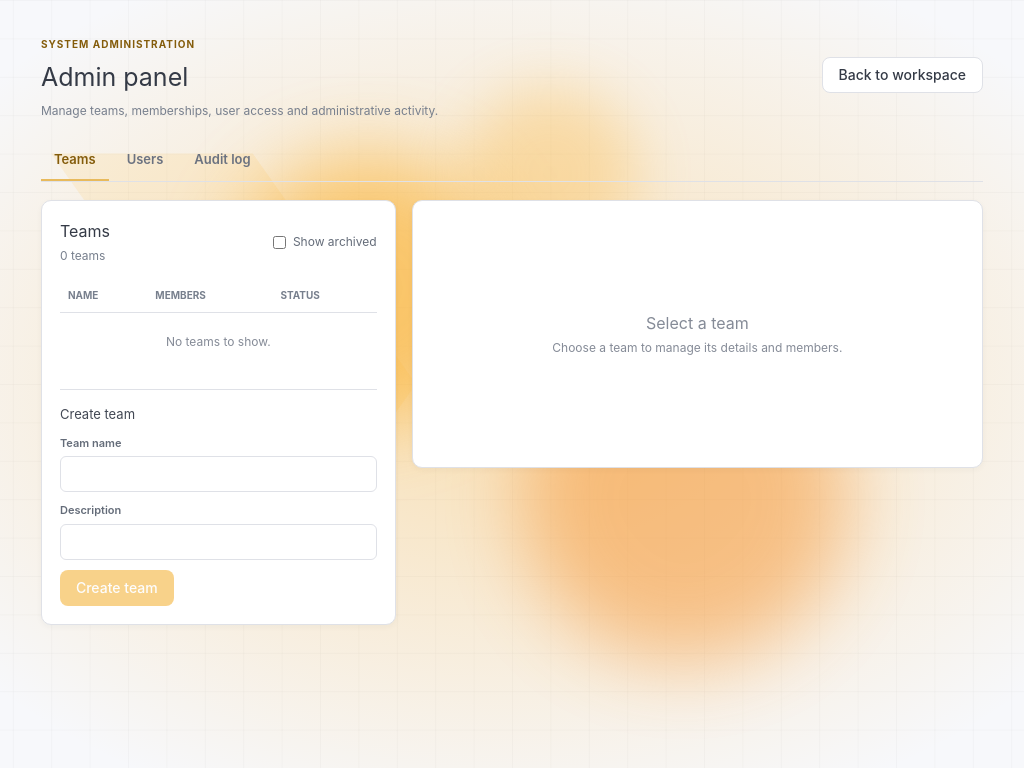
it: AdminPanel › shows a friendly message when deletion fails with LAST_SYSTEM_ADMIN
Click the button "Users" at (145, 160), box [114,140,176,181]
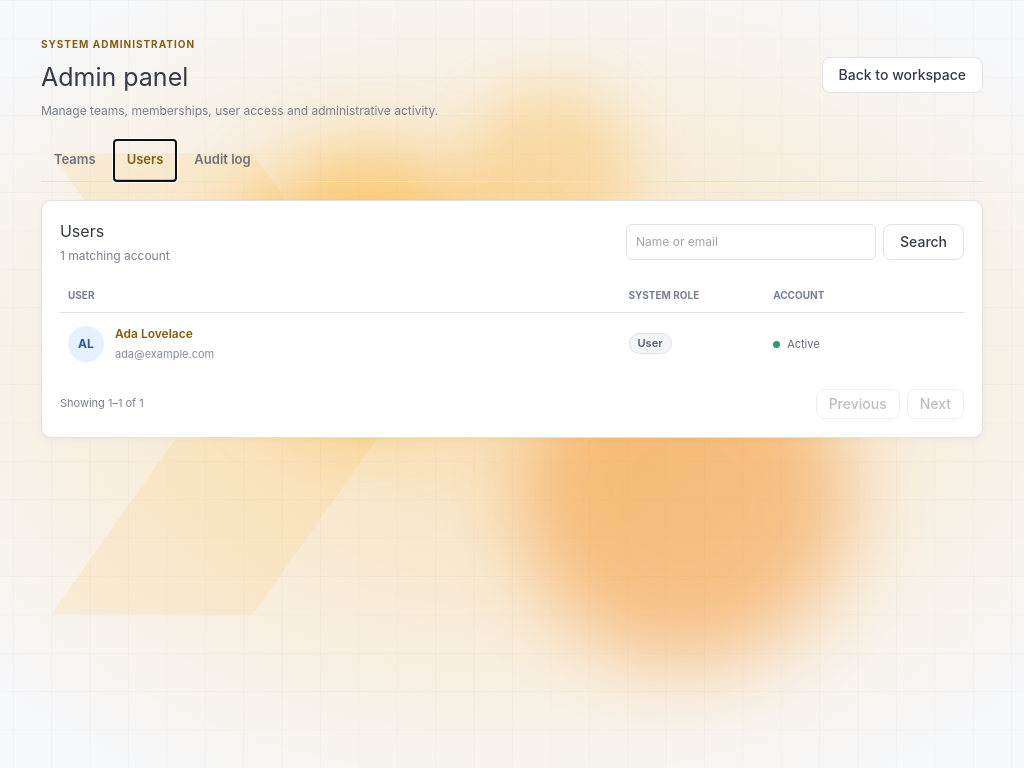
Click the button with aria-label "Manage Ada Lovelace" at (154, 334), box [115,325,193,343]
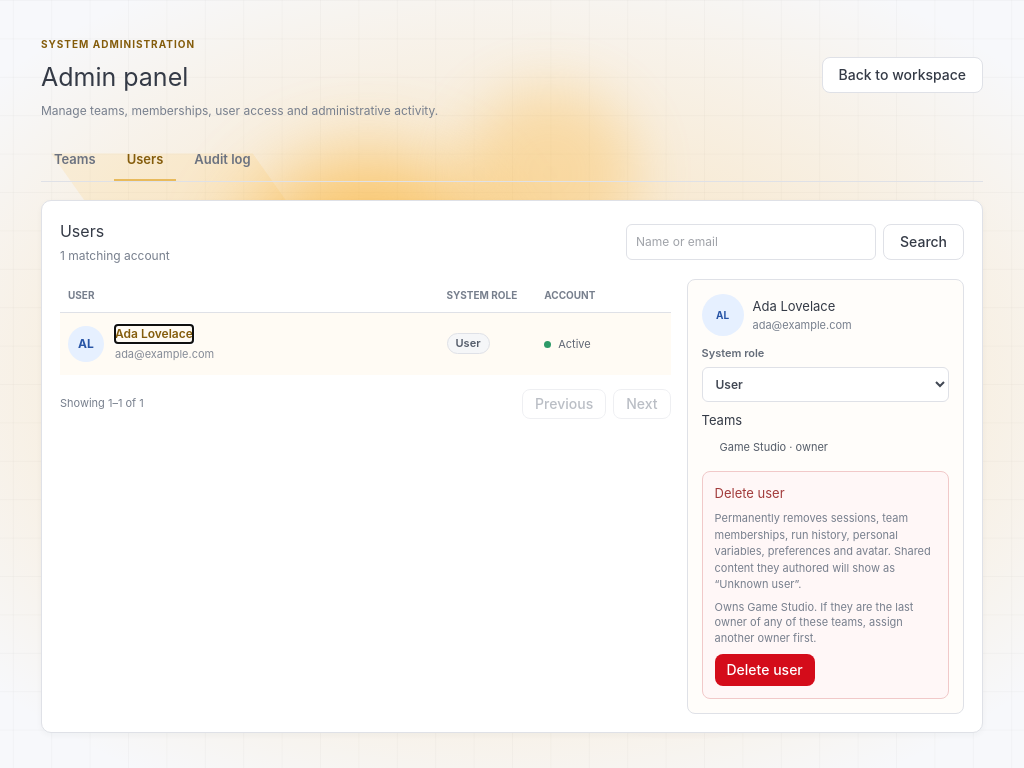
Click the button "Delete user" at (765, 670), box [714,654,815,686]
(page scrolled)
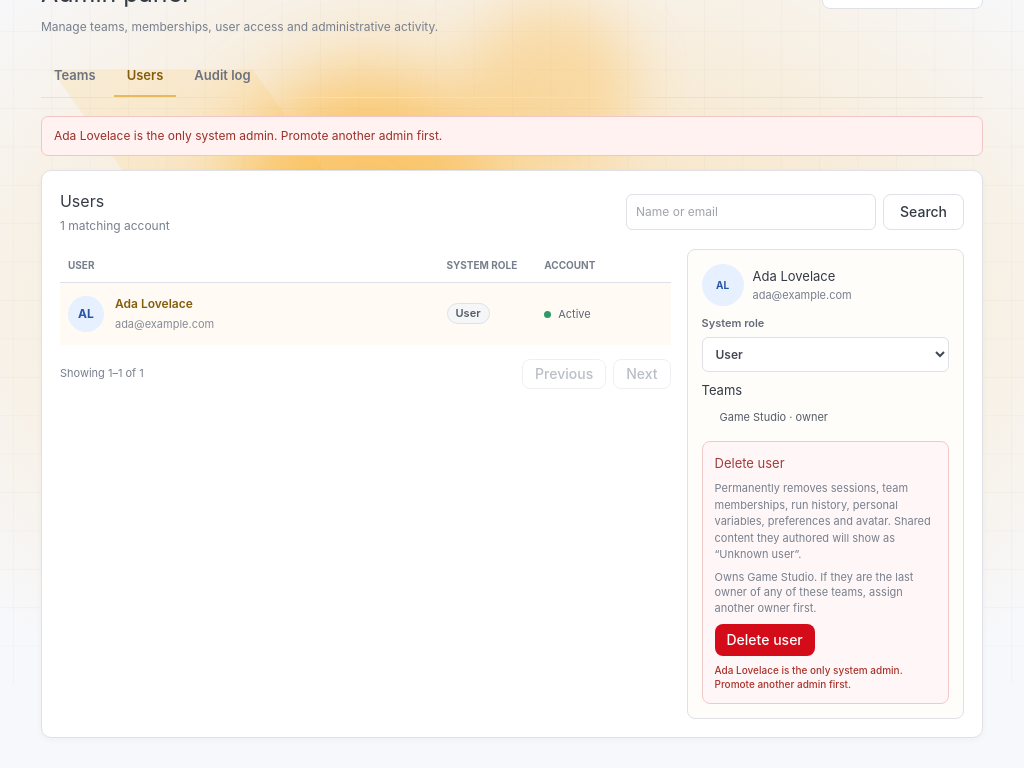
Check: the element with class "admin-user-detail" is shown, box [686,249,964,719]
Check: the text "Ada Lovelace is the only system admin. Promote another admin first." below "Owns" is shown, box [714,664,902,690]
